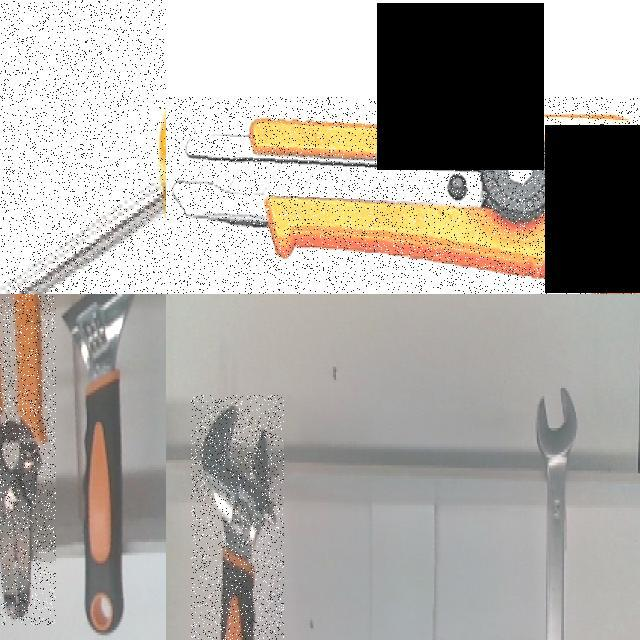estilete: (163, 98, 544, 288)
